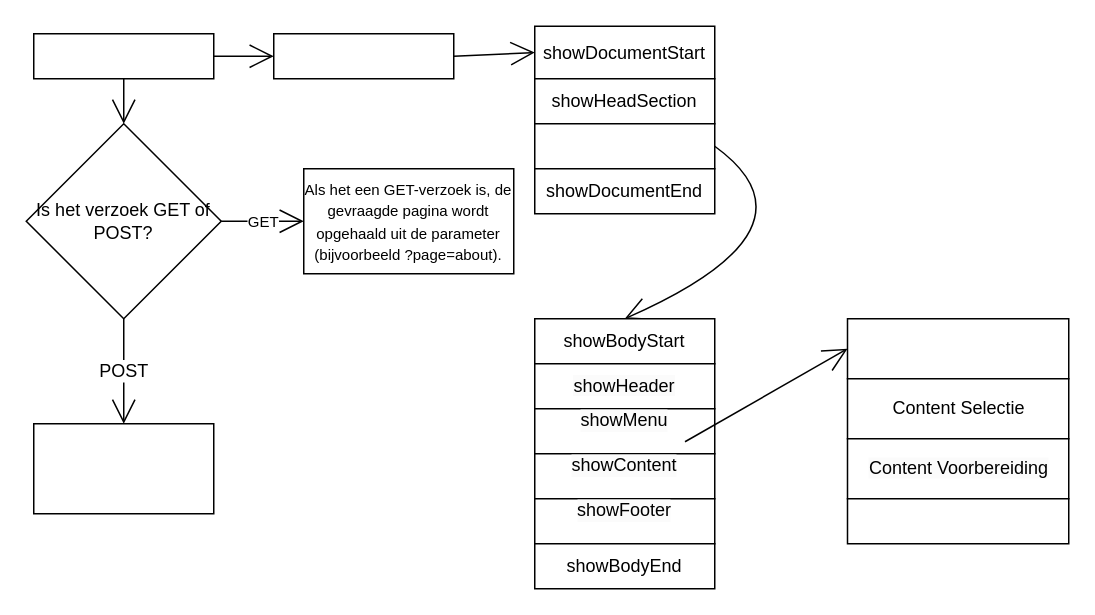
Some shapes in this 1095 by 615 pixel diagram are drawn without their labels. The shapes that lost their labels are listed below. From the top down, each one's box as (x1, y1, x2, y2) in pixels, then its label:
(32, 32, 214, 79): getRequestedPage
(272, 32, 454, 79): showResponsePage
(533, 122, 715, 169): showBodySection
(846, 317, 1069, 379): Identificeer de Content
(32, 422, 214, 514): verwerken van de formuliergegevens en het valideren van de invoer.
(846, 497, 1069, 544): Toon Content
